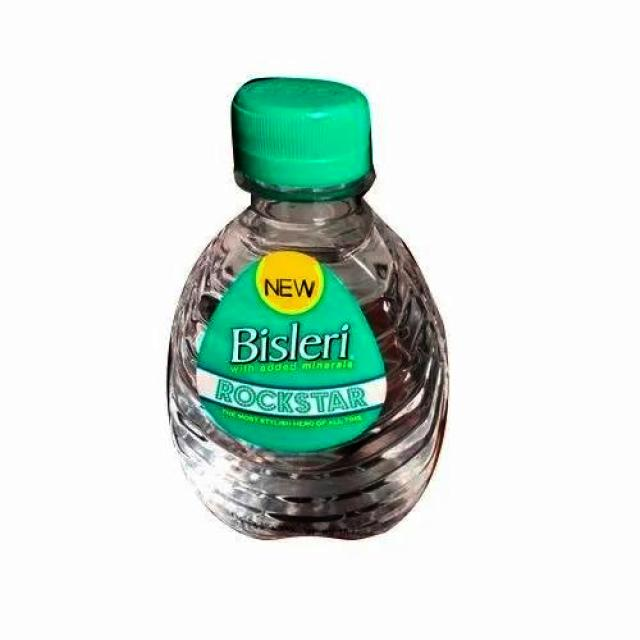full-bottle: (156, 72, 450, 558)
